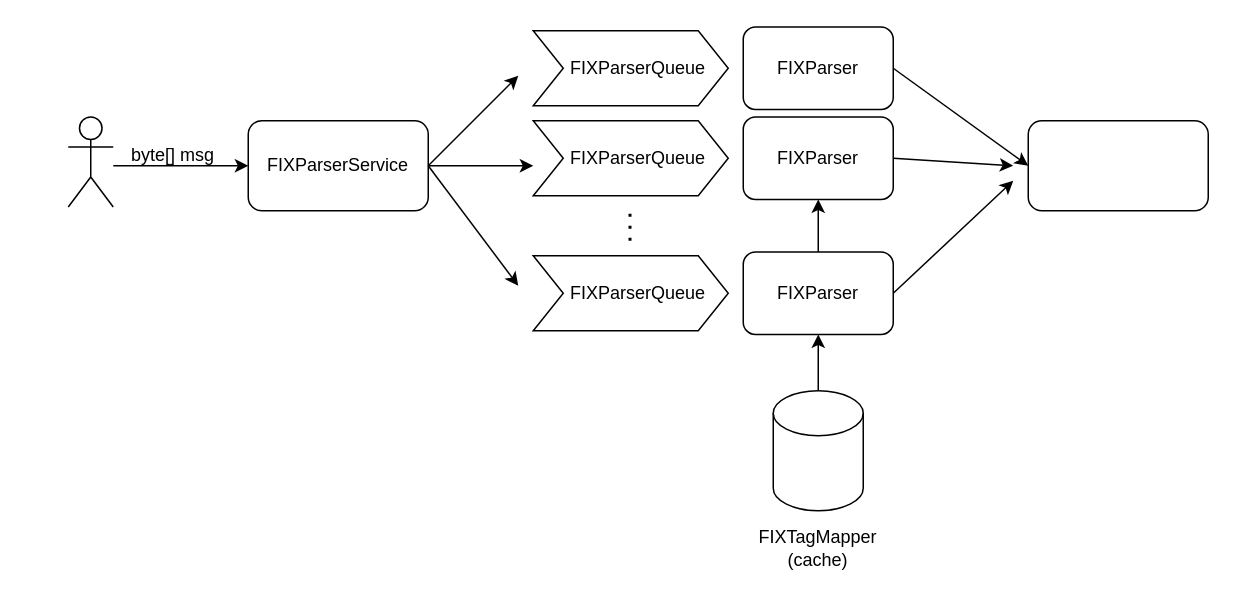
The diagram is 1235 pixels wide and 596 high, and some of its shapes have lost their labels. The shapes that lost their labels are listed below. From the top down, each one's box as (x1, y1, x2, y2) in pixels, then its label:
(67, 116, 113, 207): Exchange/Client
(1027, 119, 1208, 211): FIXMessageConsumer
